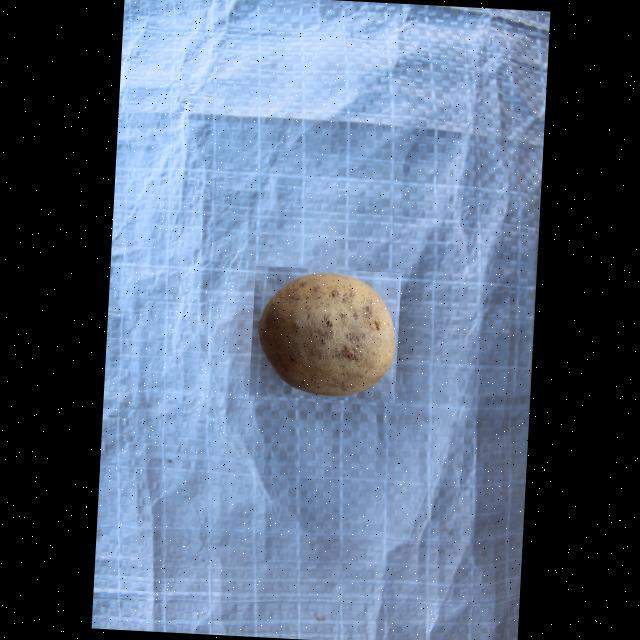Diseased-fungal potato: (248, 266, 401, 402)
